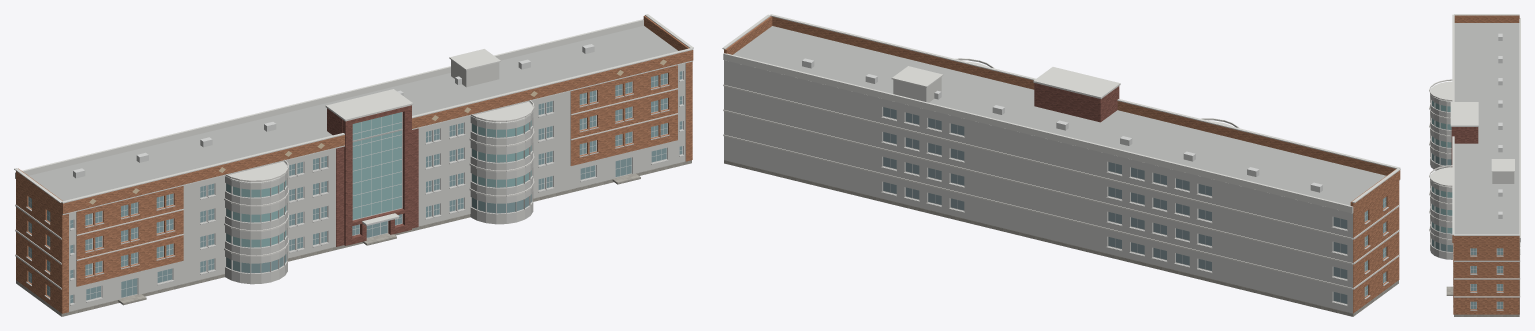
3 renders of one model, left to right at view 1: azimuth 30°, elevation 25°; view 2: azimuth 150°, elevation 25°; view 3: azimuth 270°, elevation 25°, orthographic. The views are drawn at different scales.
Parts seen in each view (by area): view 1: main__white, main__brick, main__roof, main__cap, main__glass, main__tealglass, main__frame, main__darkbrick, main__band, main__stone, main__sill, main__unit; view 2: main__white, main__roof, main__brick, main__cap, main__sideglass, main__band, main__stone, main__darkbrick, main__frame, main__sill, main__unit; view 3: main__roof, main__brick, main__cap, main__white, main__band, main__tealglass, main__glass, main__darkbrick, main__frame, main__unit, main__stone, main__sill.
Boxes of the visible parts, x1,y1,x2,y2 form: main__white: [69, 60, 685, 311]; main__brick: [16, 15, 693, 313]; main__roof: [29, 26, 677, 200]; main__cap: [14, 14, 693, 224]; main__glass: [28, 71, 682, 303]; main__tealglass: [226, 112, 531, 247]; main__frame: [28, 71, 682, 303]; main__darkbrick: [327, 105, 418, 246]; main__band: [15, 88, 678, 289]; main__stone: [16, 160, 691, 316]; main__sill: [26, 80, 684, 305]; main__unit: [73, 44, 594, 178]; main__white: [724, 60, 1352, 313]; main__roof: [733, 26, 1386, 213]; main__brick: [724, 16, 1400, 313]; main__cap: [722, 14, 1400, 213]; main__sideglass: [883, 107, 1347, 303]; main__band: [723, 58, 1399, 289]; main__stone: [724, 160, 1398, 316]; main__darkbrick: [1034, 83, 1119, 122]; main__frame: [883, 107, 1386, 304]; main__sill: [881, 117, 1388, 306]; main__unit: [802, 58, 1322, 192]; main__roof: [1454, 23, 1519, 234]; main__brick: [1452, 15, 1519, 314]; main__cap: [1430, 14, 1520, 243]; main__white: [1430, 93, 1519, 314]; main__band: [1429, 79, 1520, 297]; main__tealglass: [1432, 101, 1452, 233]; main__glass: [1432, 153, 1502, 308]; main__darkbrick: [1451, 127, 1478, 166]; main__frame: [1432, 105, 1503, 309]; main__unit: [1498, 33, 1502, 218]; main__stone: [1454, 314, 1519, 316]; main__sill: [1453, 242, 1520, 310].
Size of the model in its own units: 95.52 by 18.75 by 16.73.
Materials: 16 (4 with a texture image).
